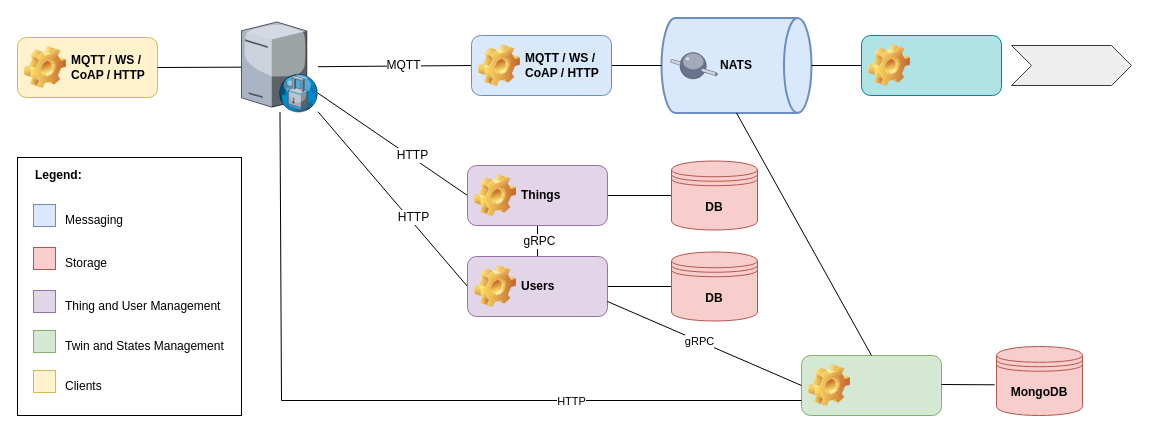
This 1149x448 diagram has some shape labels left out. Each missing label, with the centre of its shape:
Custom Exporter: [931,65]
Data Export: [1071,65]
Proxy: [279,67]
Twins: [871,385]
